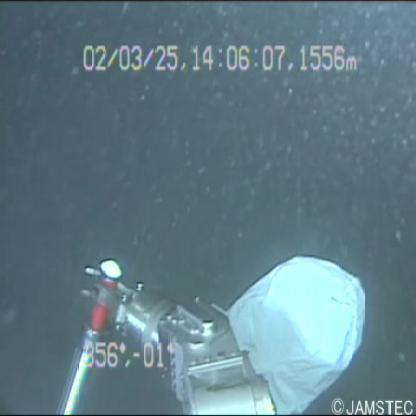Rov: (53, 241, 278, 415)
Rác: (201, 228, 369, 414)
